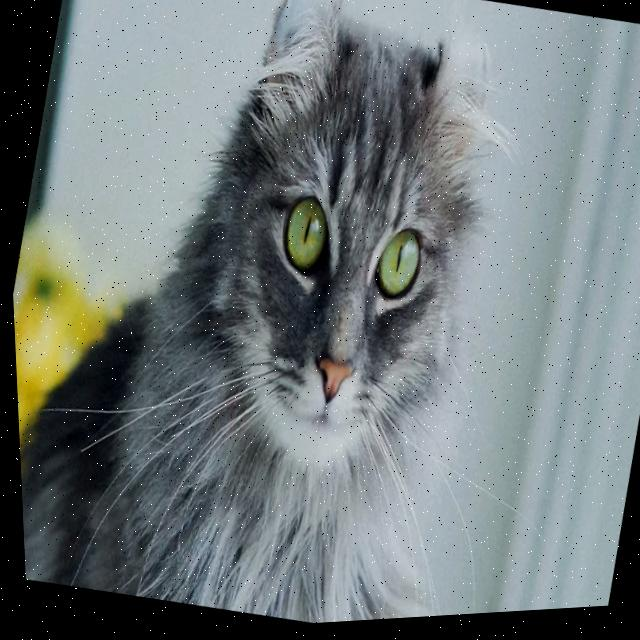American Curl: (0, 0, 560, 640)
